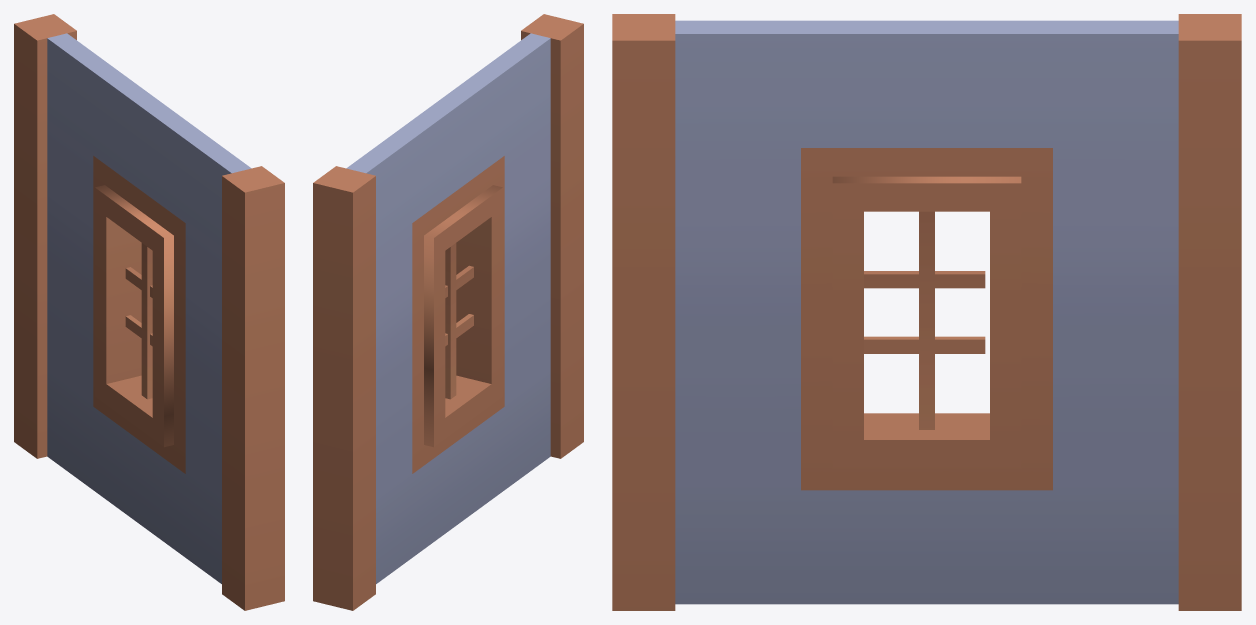
Rendered from wall-window-glass.glb.
3 views of the same model, side by side, from view 1: azimuth 30°, elevation 25°; view 2: azimuth 150°, elevation 25°; view 3: azimuth 270°, elevation 25° (orthographic). The views are drawn at different scales.
Visible parts, largest first — view 1: wall-window-glass; view 2: wall-window-glass; view 3: wall-window-glass.
Boxes of the visible parts, box(x1,y1,x2,y2) form: wall-window-glass: box(14, 14, 284, 610); wall-window-glass: box(313, 14, 583, 610); wall-window-glass: box(612, 14, 1241, 610).
Size of the model in its own units: 0.1 by 1 by 1.
Materials: 1 (1 with a texture image).
